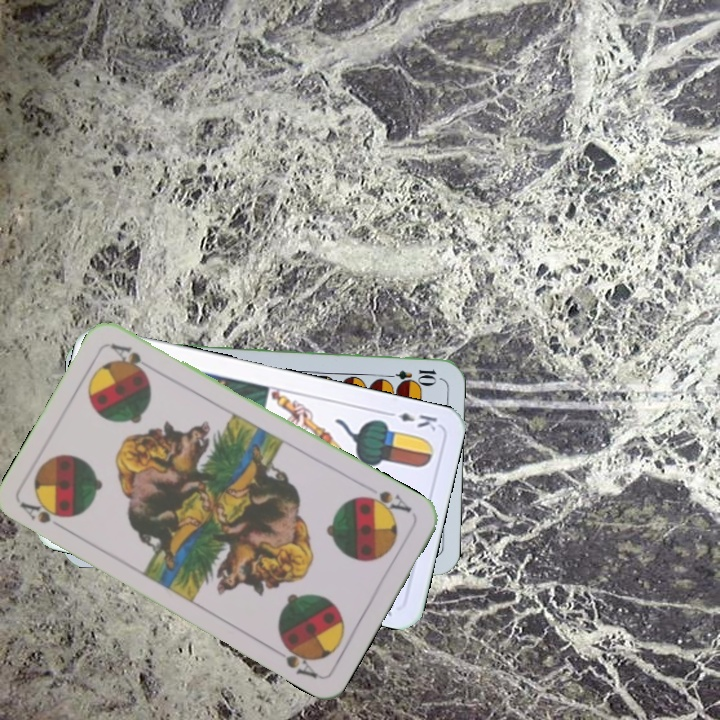E10: (380, 365, 439, 384)
EK: (381, 407, 440, 434)
SA: (16, 498, 71, 535), (357, 486, 415, 518)
